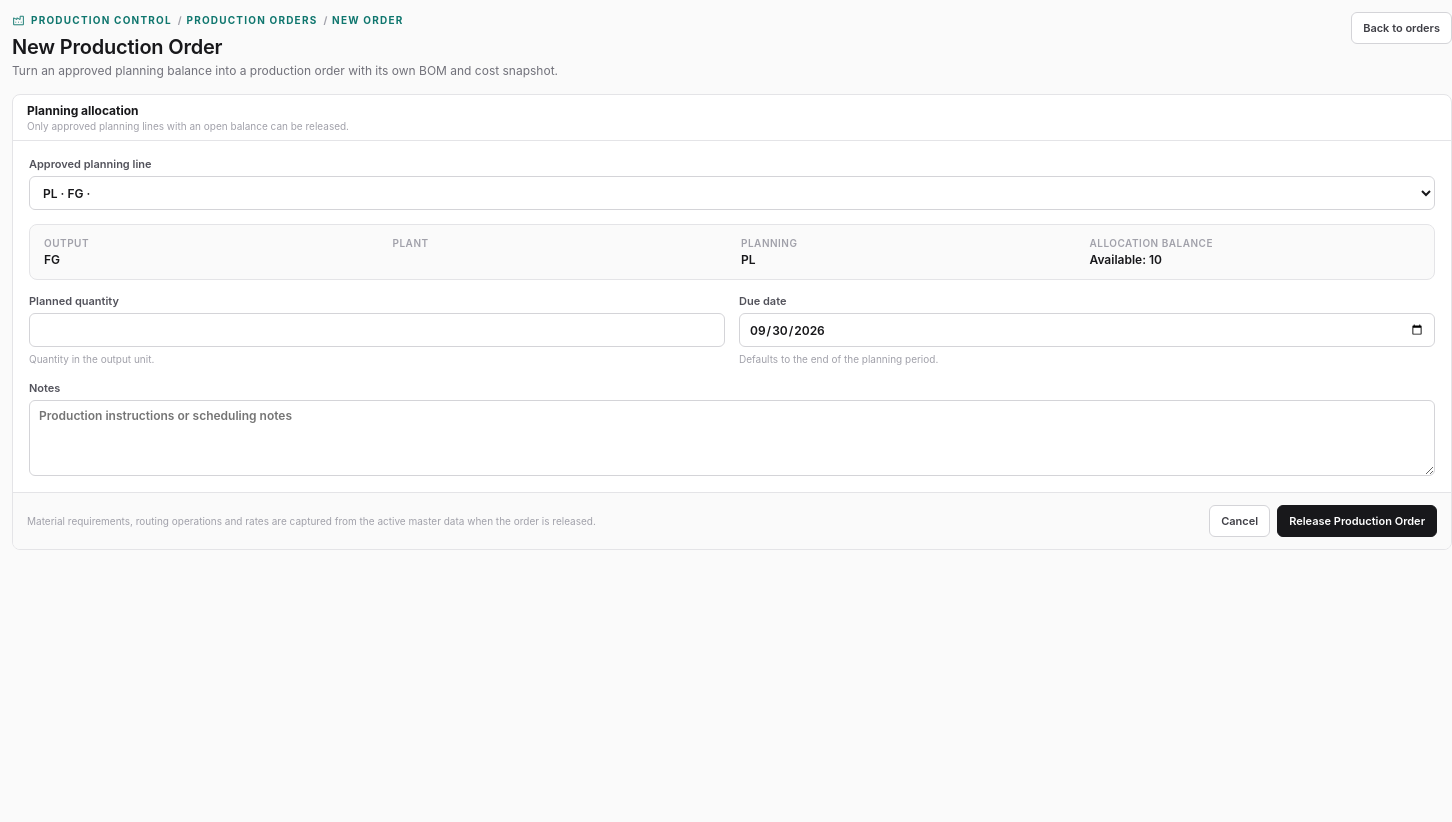
rejects quantities beyond the available planning balance
The width and height of the screenshot is (1452, 822).
expect the text "Available: 10" is shown: met, box [1090,252,1162,267]
Type "11" into the number field labelled "Planned quantity" at (377, 330), box [29,313,725,347]
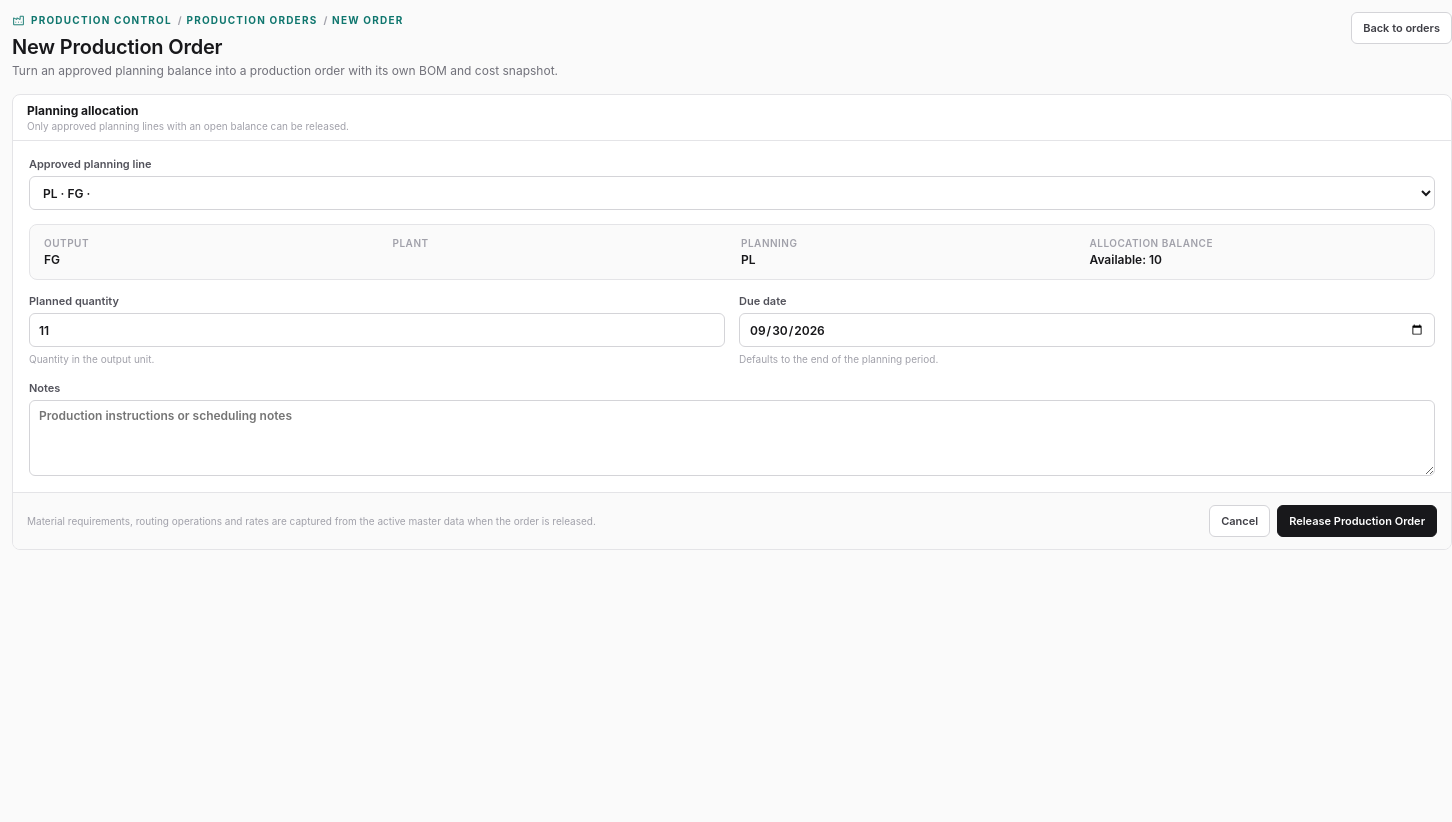
Submit the form named "Release Production Order", box [12,94,1451,550]
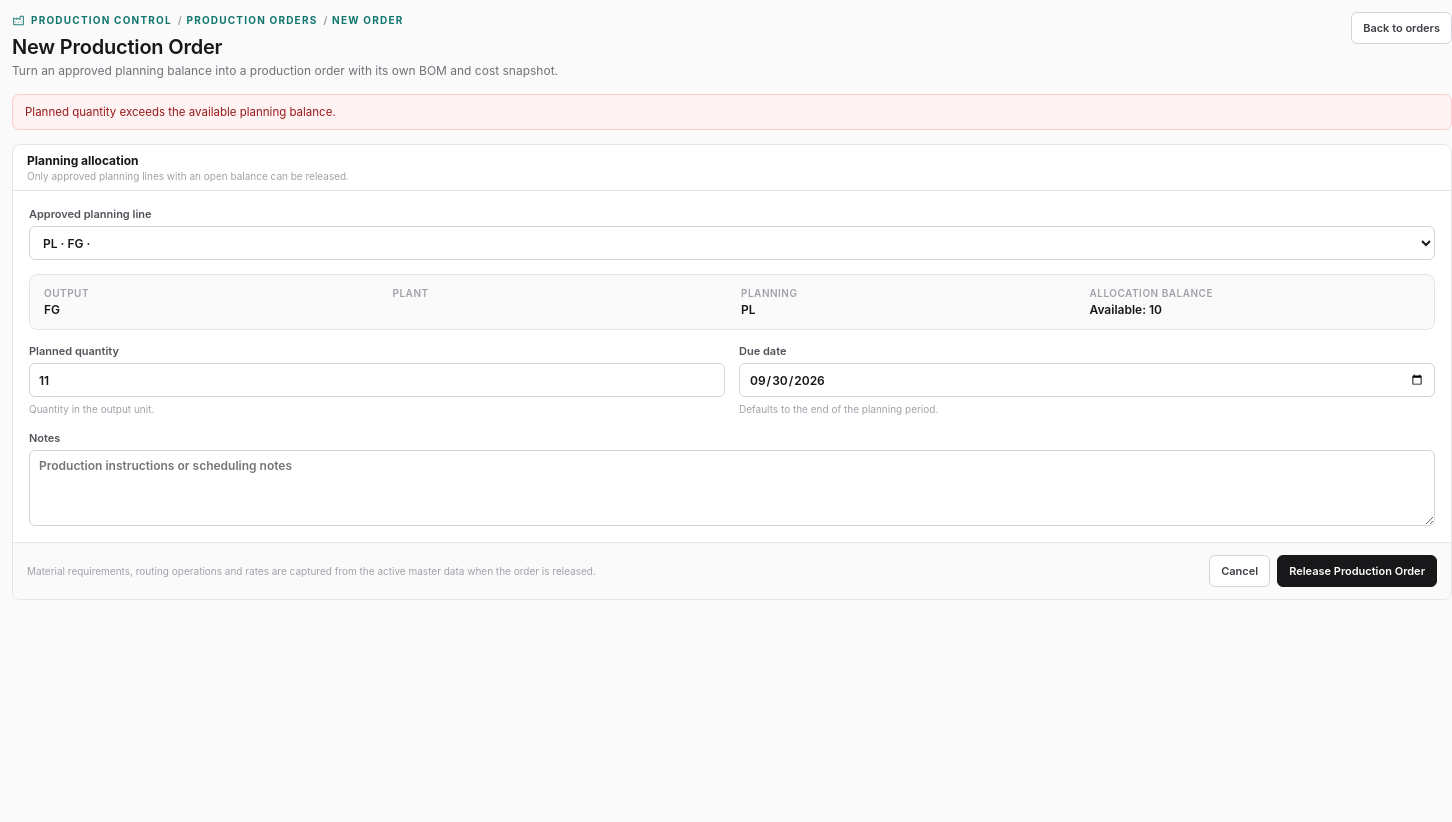
expect the message shows "available planning balance": met, box [25,105,336,119]
